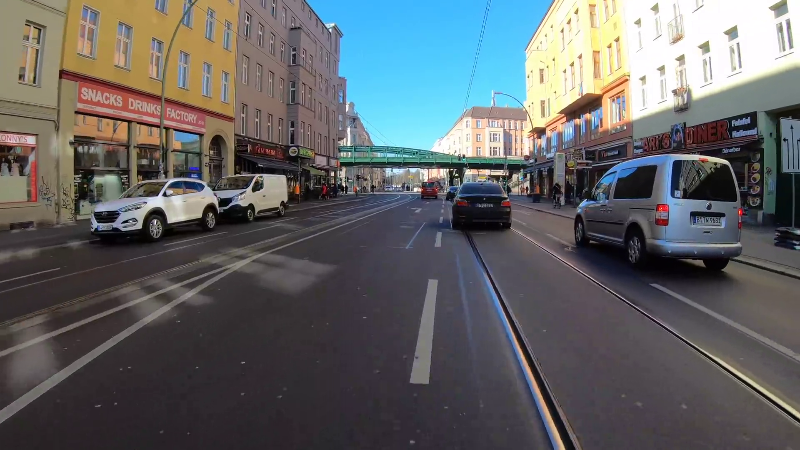Plate: (691, 214, 722, 225), (473, 201, 493, 208), (96, 223, 112, 229)
